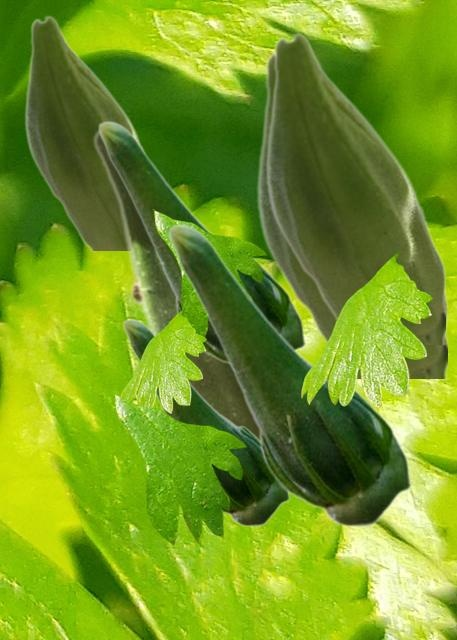okra: (167, 223, 411, 527), (256, 51, 446, 377), (265, 32, 444, 343), (97, 120, 305, 365), (92, 128, 257, 435), (122, 318, 289, 526), (24, 15, 145, 249)
